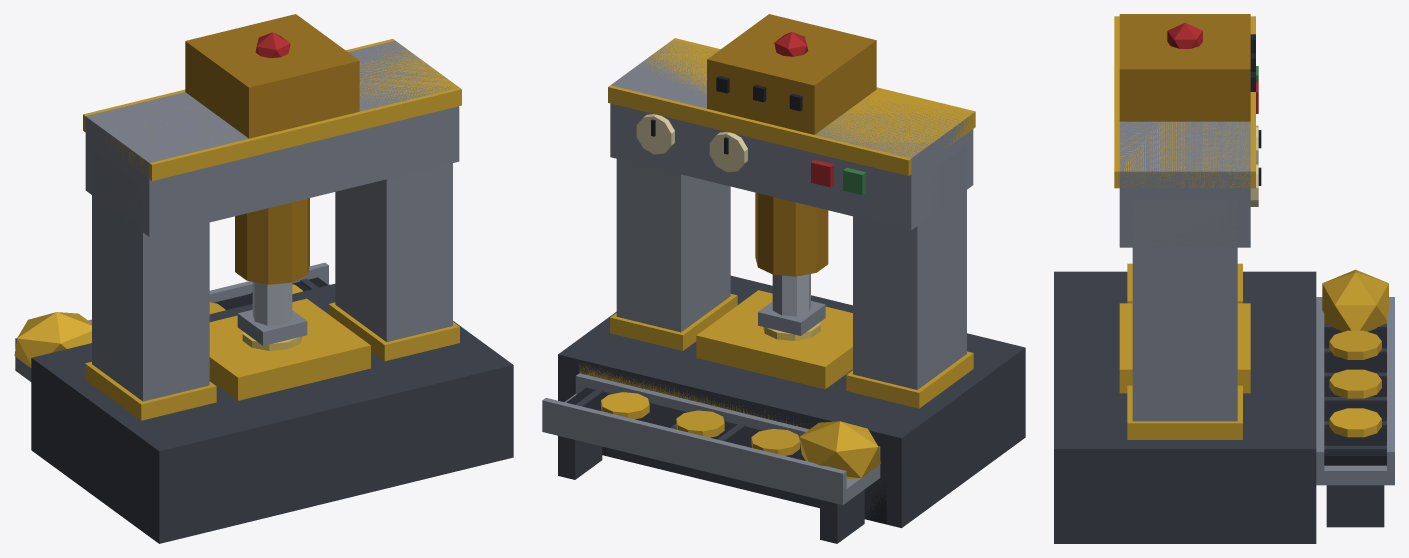
File: Decor_GoldVault_Mint.fbx
The picture shows the model from 3 angles, left to right: view 1: azimuth 30°, elevation 25°; view 2: azimuth 150°, elevation 25°; view 3: azimuth 270°, elevation 25°; orthographic projection. The views are drawn at different scales.
Visible parts, largest first — view 1: Mint_Body; view 2: Mint_Body; view 3: Mint_Body.
Boxes of the visible parts, box(x1,y1,x2,y2) form: Mint_Body: box(14, 14, 513, 543); Mint_Body: box(542, 14, 1025, 543); Mint_Body: box(1054, 14, 1394, 543).
Size of the model in its own units: 16 by 18.2 by 13.
